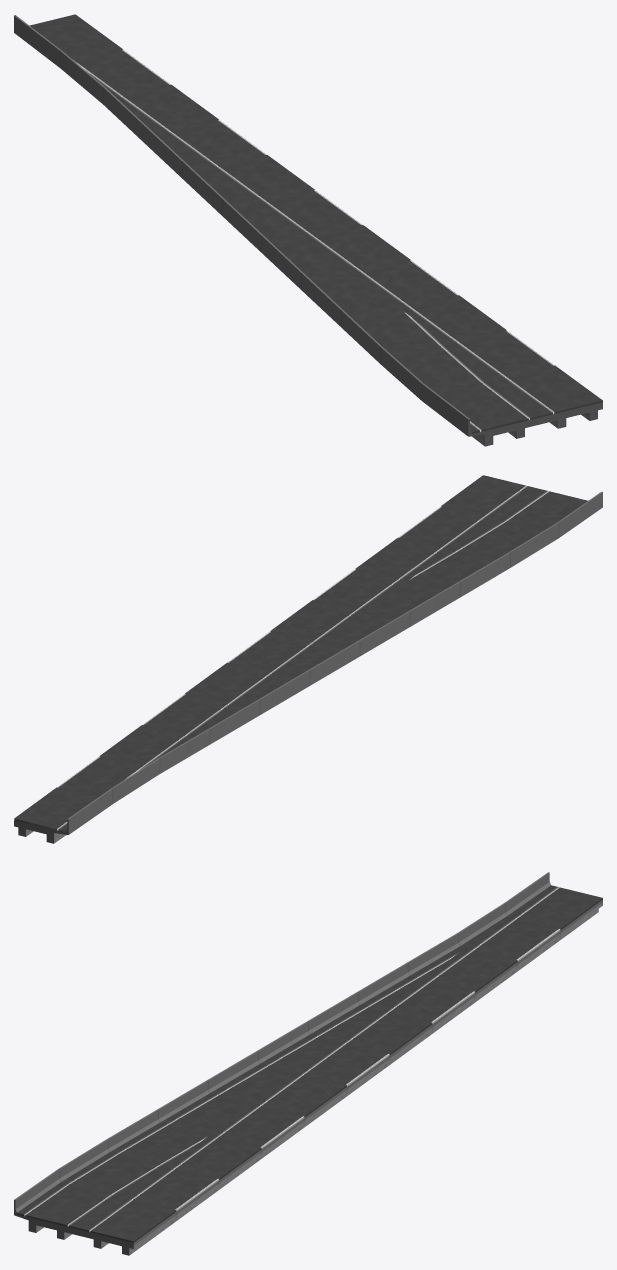
The model's file is 【組立式】高速道路(下り合流_右)_W7.9m×D55m×H0.1m.fbx.
The picture shows the model from 3 angles, top to bottom: view 1: azimuth 30°, elevation 25°; view 2: azimuth 150°, elevation 25°; view 3: azimuth 330°, elevation 25°; orthographic projection. The views are drawn at different scales.
Parts seen in each view (by area): view 1: 道路, 高架橋; view 2: 道路, 高架橋; view 3: 道路, 高架橋.
Part boxes in pixels (x1,y1,x2,y2): 道路: (29, 14, 602, 433); 高架橋: (14, 15, 602, 446); 道路: (14, 475, 587, 832); 高架橋: (14, 491, 602, 843); 道路: (17, 885, 602, 1242); 高架橋: (14, 872, 602, 1255).
Size of the model in its own units: 8.1 by 1.8 by 55.
